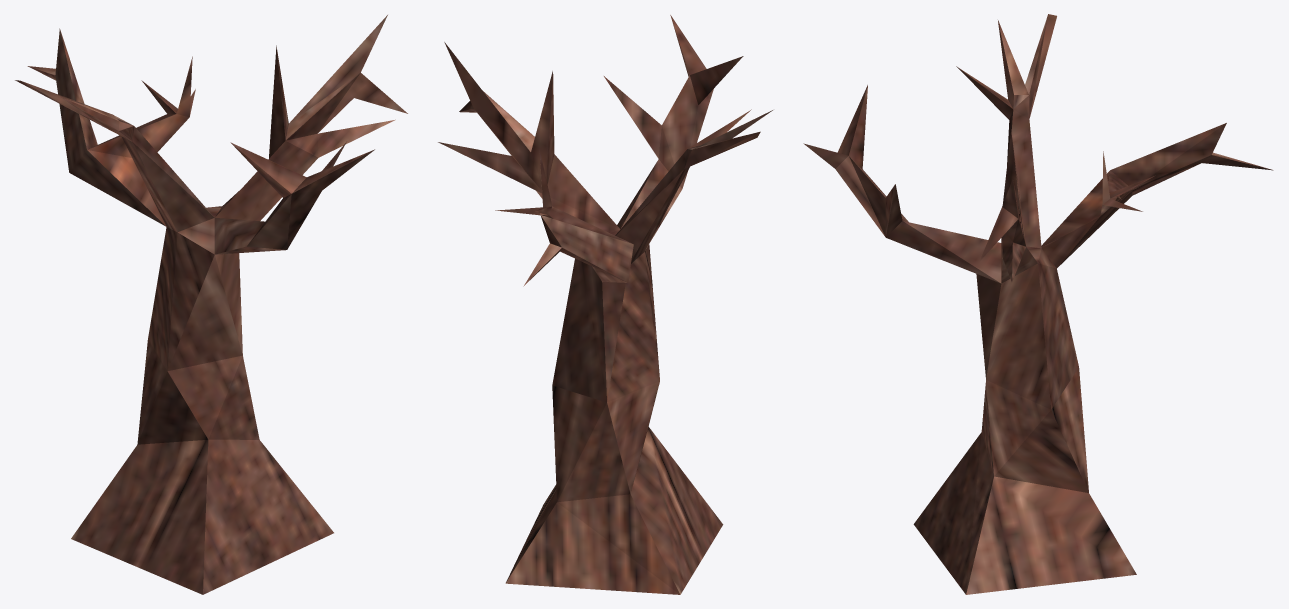
File: SuhoeDerevo.fbx
3 views of the same model, side by side, from view 1: azimuth 30°, elevation 25°; view 2: azimuth 150°, elevation 25°; view 3: azimuth 270°, elevation 25° (orthographic). The views are drawn at different scales.
Visible parts, largest first — view 1: ДЕРЕВО 2.004; view 2: ДЕРЕВО 2.004; view 3: ДЕРЕВО 2.004.
Boxes of the visible parts, <box> form: ДЕРЕВО 2.004: <box>15,15,407,594</box>; ДЕРЕВО 2.004: <box>438,15,772,594</box>; ДЕРЕВО 2.004: <box>803,14,1273,594</box>.
Size of the model in its own units: 464 by 608 by 564.
